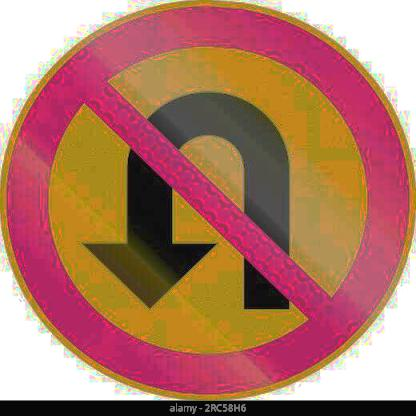No U-turn: (6, 5, 413, 398)
